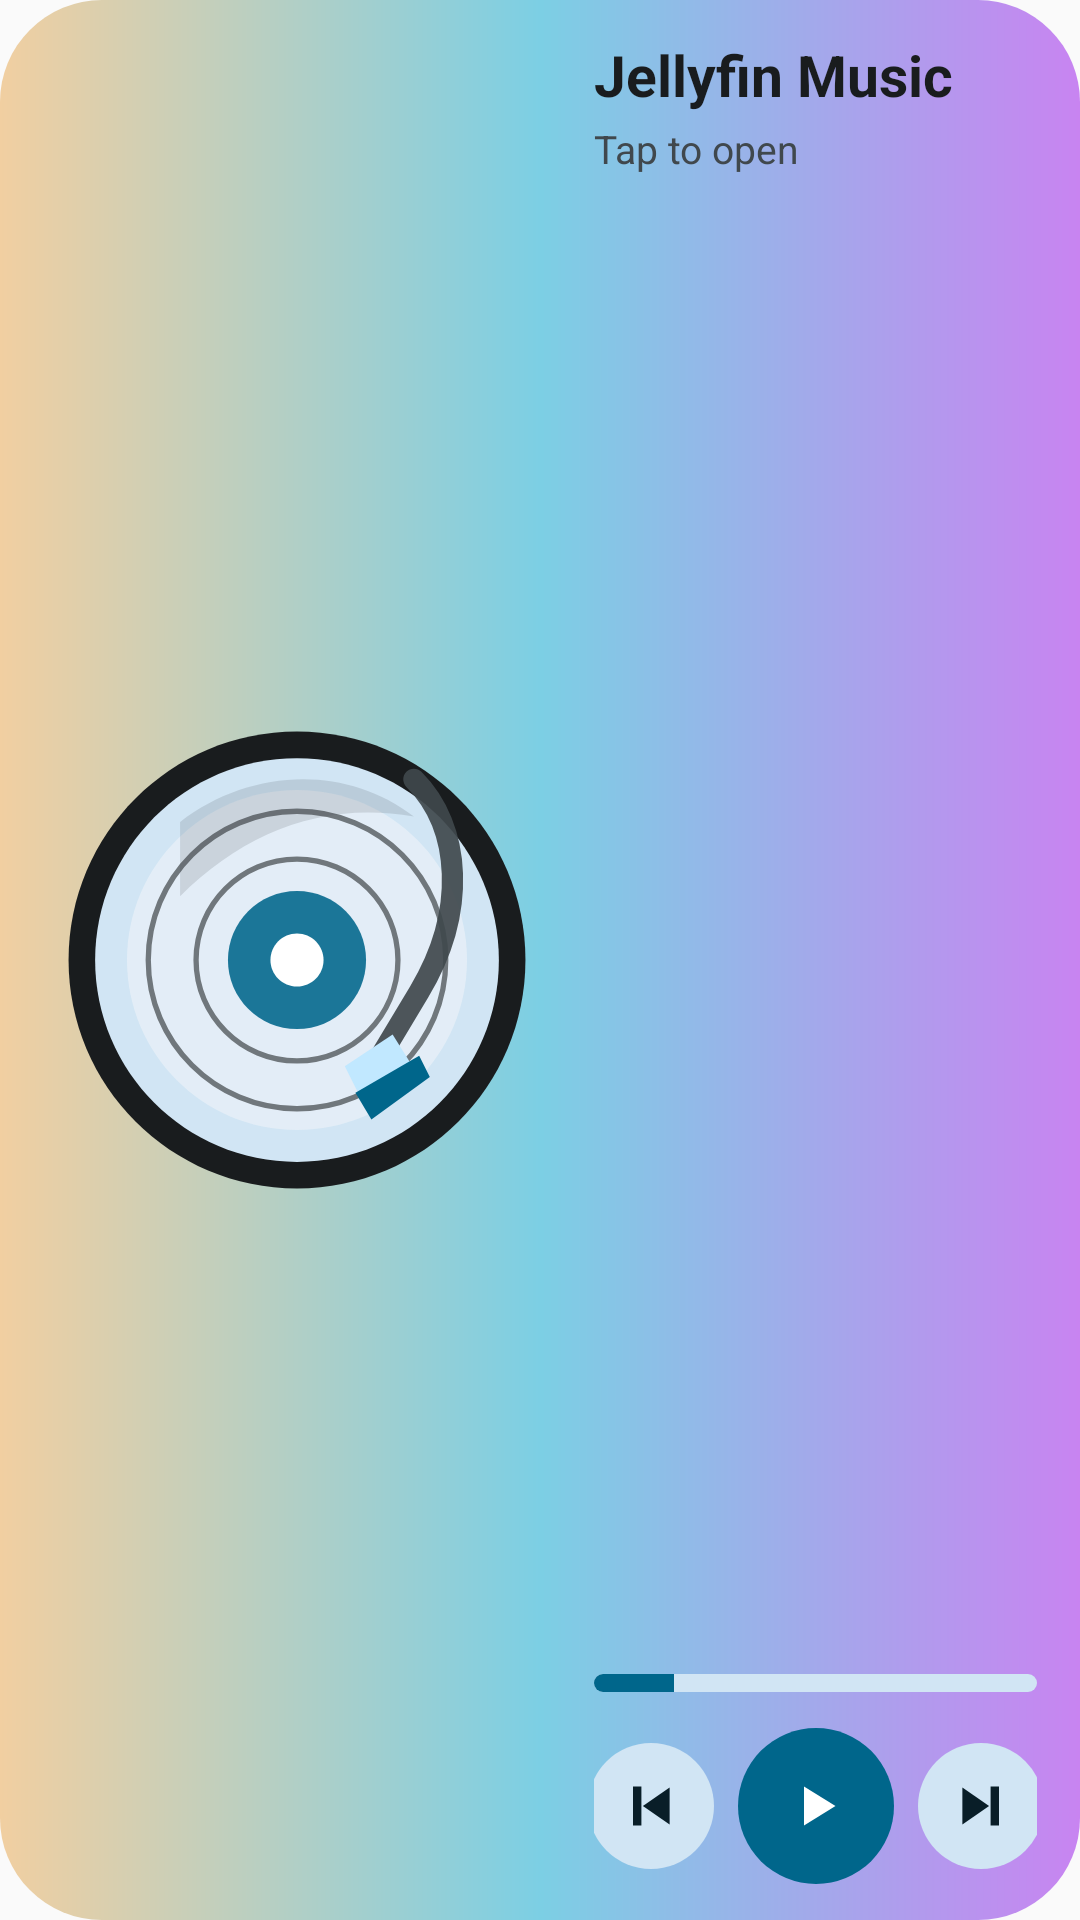

Point at icon controls on the screen. Image size 1080 × 1920, points as point (x, y).
Next: point (977, 1806)
Play or pause: point (816, 1806)
Previous: point (654, 1806)
